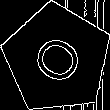O_SE: (24, 27, 89, 90)
